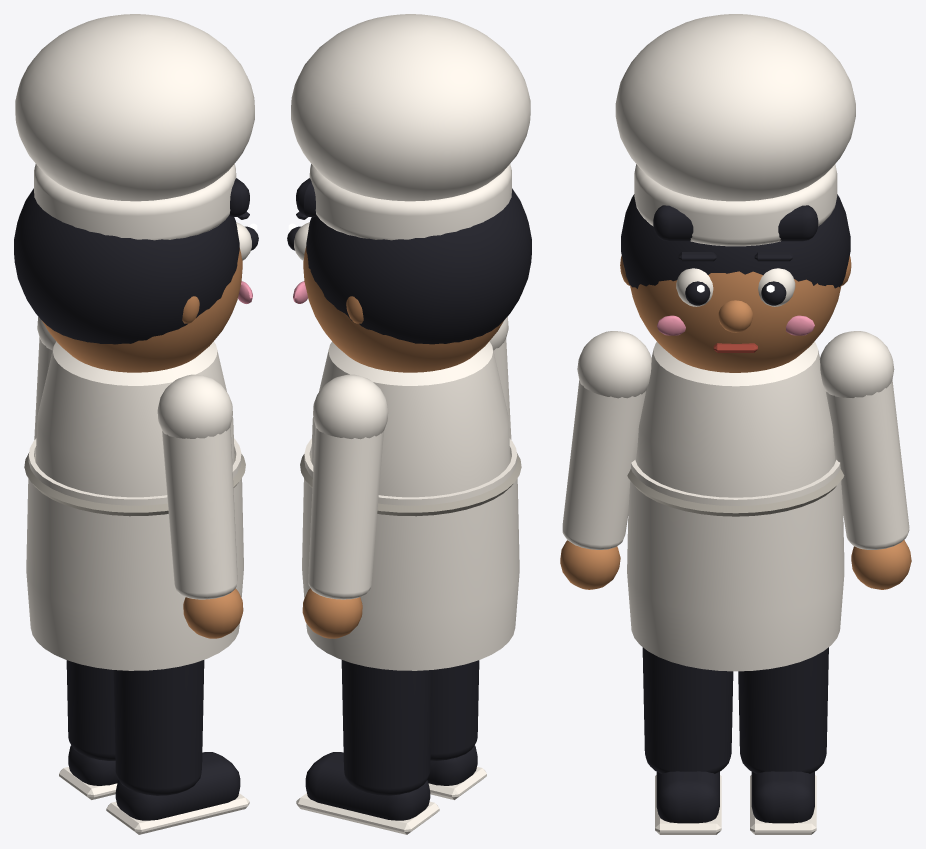
The model's file is ped_chef.glb.
The picture shows the model from 3 angles, left to right: view 1: azimuth 30°, elevation 25°; view 2: azimuth 150°, elevation 25°; view 3: azimuth 270°, elevation 25°; orthographic projection.
Parts seen in each view (by area): view 1: ped_chef; view 2: ped_chef; view 3: ped_chef.
Part boxes in pixels (bbox=[...]): ped_chef: bbox=[14, 14, 258, 834]; ped_chef: bbox=[287, 14, 531, 834]; ped_chef: bbox=[560, 14, 911, 834].
Size of the model in its own units: 0.4688 by 1.64 by 0.6762.
1 material, 1 textured.
